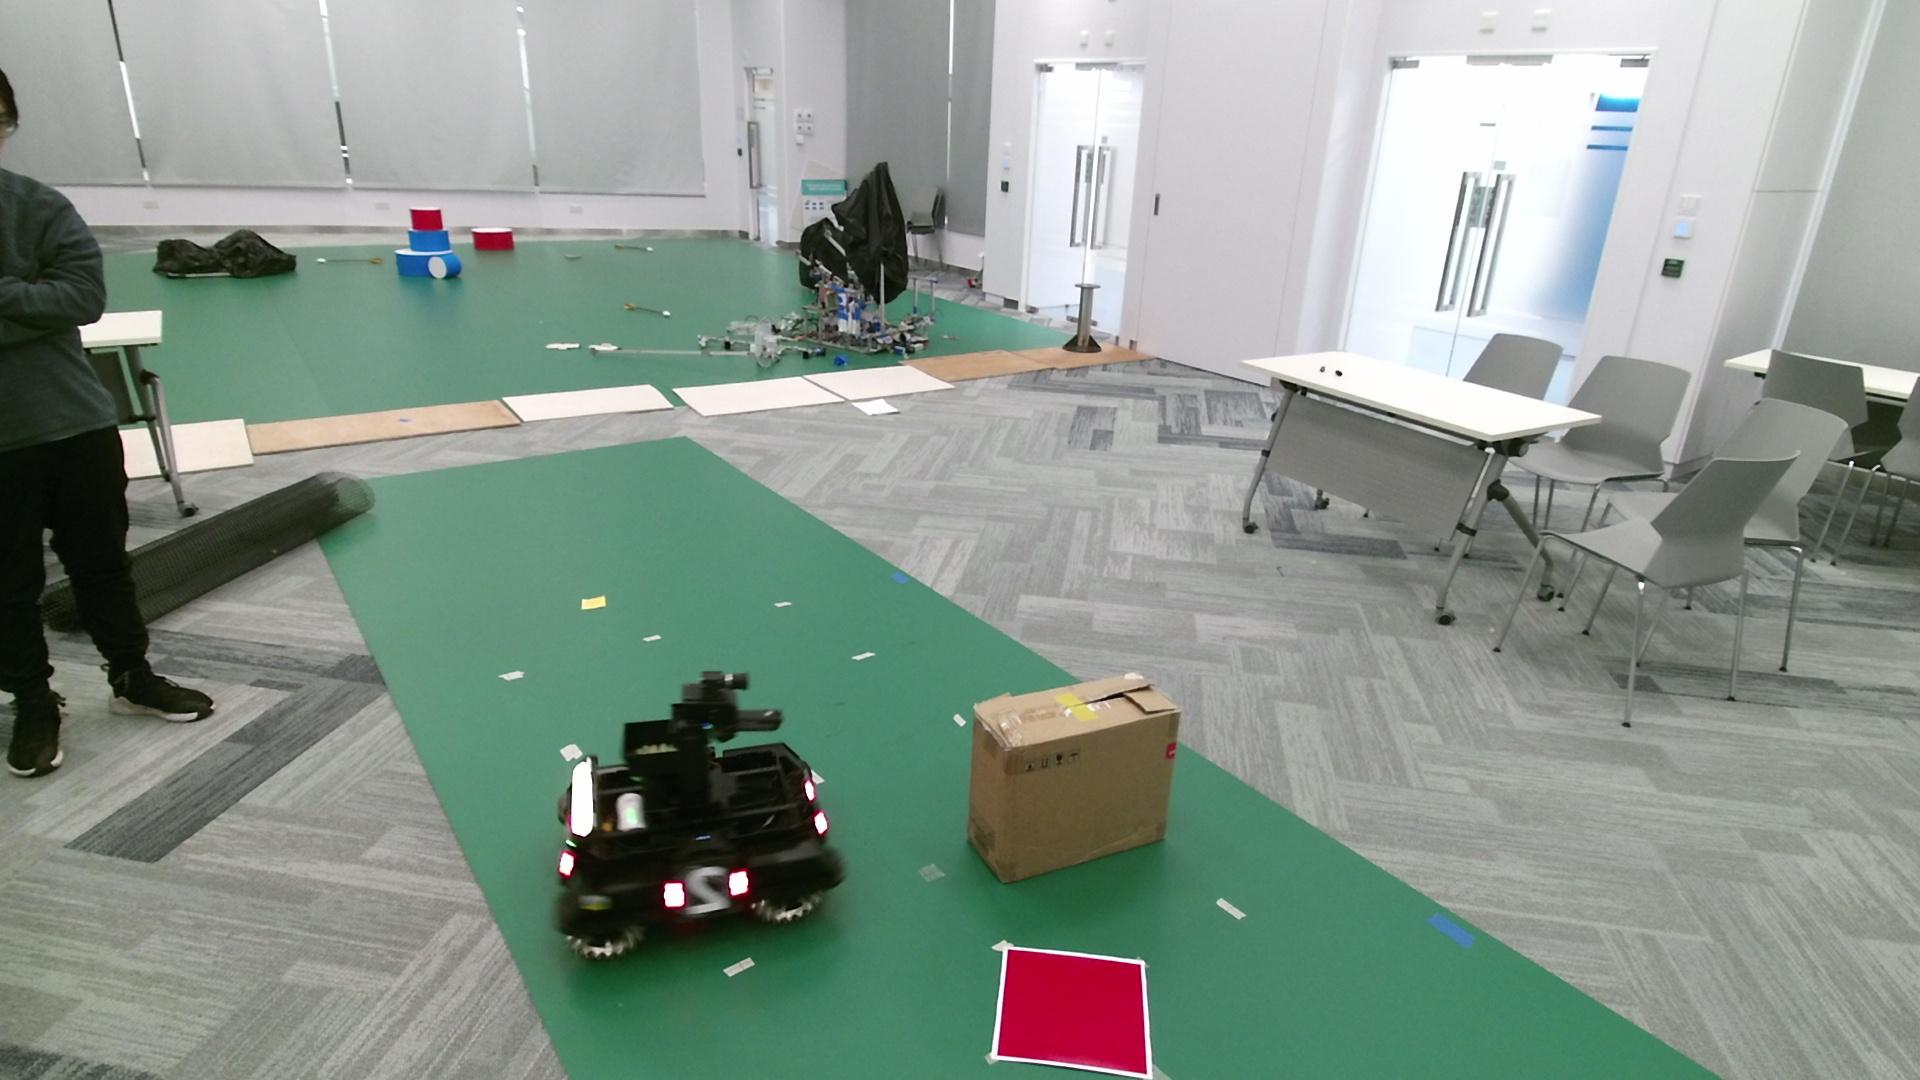robot: (553, 669, 847, 960)
